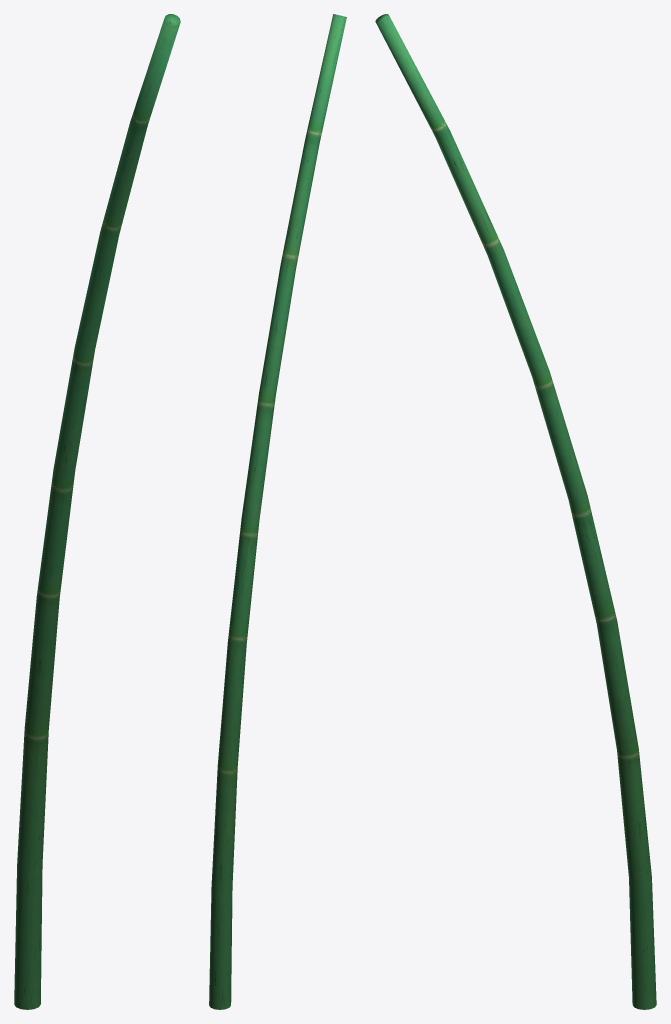
Rendered from bambu em pe PELADO.fbx.
3 views of the same model, side by side, from view 1: azimuth 30°, elevation 25°; view 2: azimuth 150°, elevation 25°; view 3: azimuth 270°, elevation 25° (orthographic). The views are drawn at different scales.
Visible parts, largest first — view 1: Cylinder; view 2: Cylinder; view 3: Cylinder.
Part boxes in pixels (<box>): Cylinder: <box>14,14,180,1009</box>; Cylinder: <box>209,14,346,1009</box>; Cylinder: <box>375,14,656,1009</box>.
Size of the model in its own units: 11 by 498 by 128.
